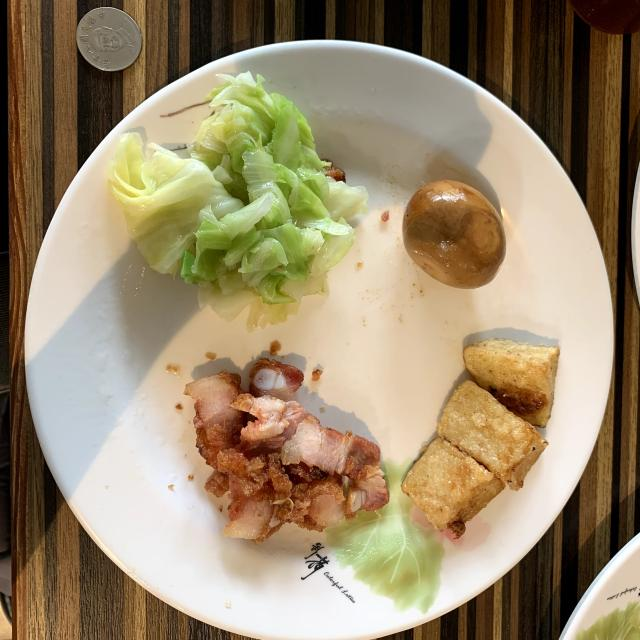cabbage: (109, 72, 368, 324)
coin: (76, 6, 142, 71)
fried potato: (401, 339, 559, 539)
red grilled pork: (185, 359, 389, 544)
soy egg: (402, 180, 505, 289)
